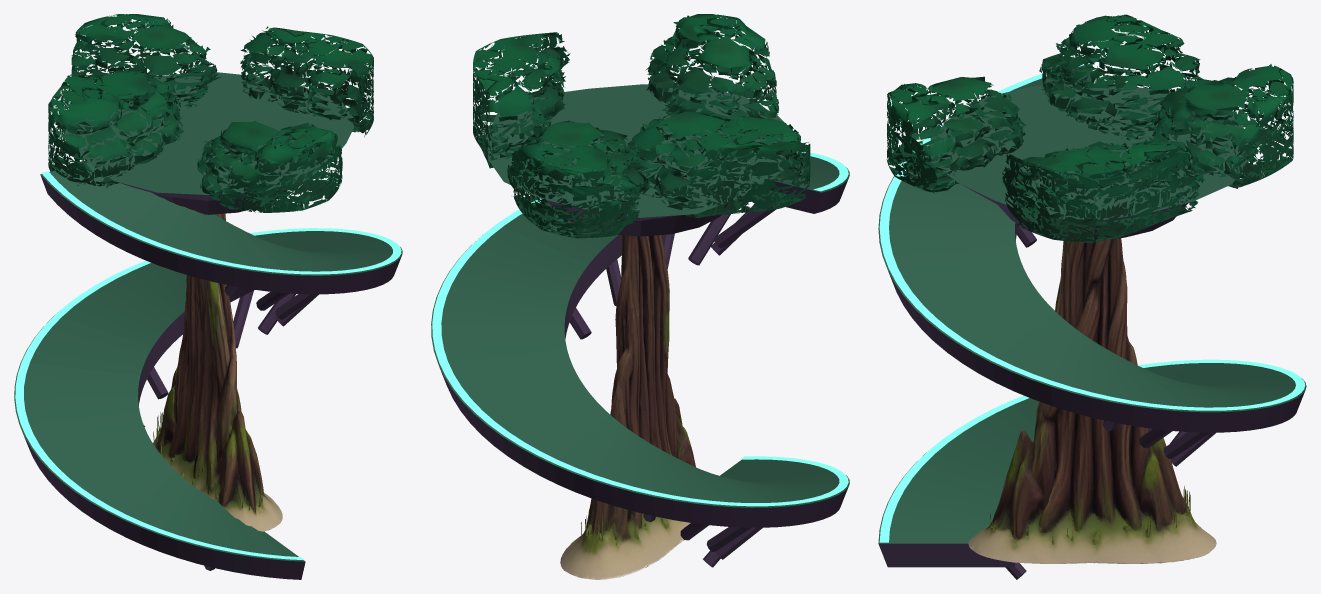
File: Pandora_RootSpire.glb
3 views of the same model, side by side, from view 1: azimuth 30°, elevation 25°; view 2: azimuth 150°, elevation 25°; view 3: azimuth 270°, elevation 25° (orthographic). The views are drawn at different scales.
Visible parts, largest first — view 1: RootSpire_Ledge, RootSpire_Tufts, RootSpire_Trunk, RootSpire_Crown, RootSpire_Glow; view 2: RootSpire_Ledge, RootSpire_Tufts, RootSpire_Trunk, RootSpire_Crown, RootSpire_Glow; view 3: RootSpire_Ledge, RootSpire_Tufts, RootSpire_Trunk, RootSpire_Crown, RootSpire_Glow.
Boxes of the visible parts, x1,y1,x2,y2 form: RootSpire_Ledge: (14, 162, 402, 579); RootSpire_Tufts: (48, 14, 373, 212); RootSpire_Trunk: (153, 213, 282, 531); RootSpire_Crown: (61, 72, 354, 214); RootSpire_Glow: (15, 171, 401, 560); RootSpire_Ledge: (431, 156, 849, 567); RootSpire_Tufts: (473, 14, 810, 238); RootSpire_Trunk: (560, 235, 695, 579); RootSpire_Crown: (486, 84, 797, 236); RootSpire_Glow: (432, 151, 848, 506); RootSpire_Ledge: (878, 64, 1306, 579); RootSpire_Tufts: (886, 14, 1293, 242); RootSpire_Trunk: (968, 238, 1216, 563); RootSpire_Crown: (930, 85, 1248, 239); RootSpire_Glow: (879, 63, 1305, 542).
Bounding box in the file's own units: 6.9 × 8.97 × 6.9.
Materials: 5 (2 with a texture image).
